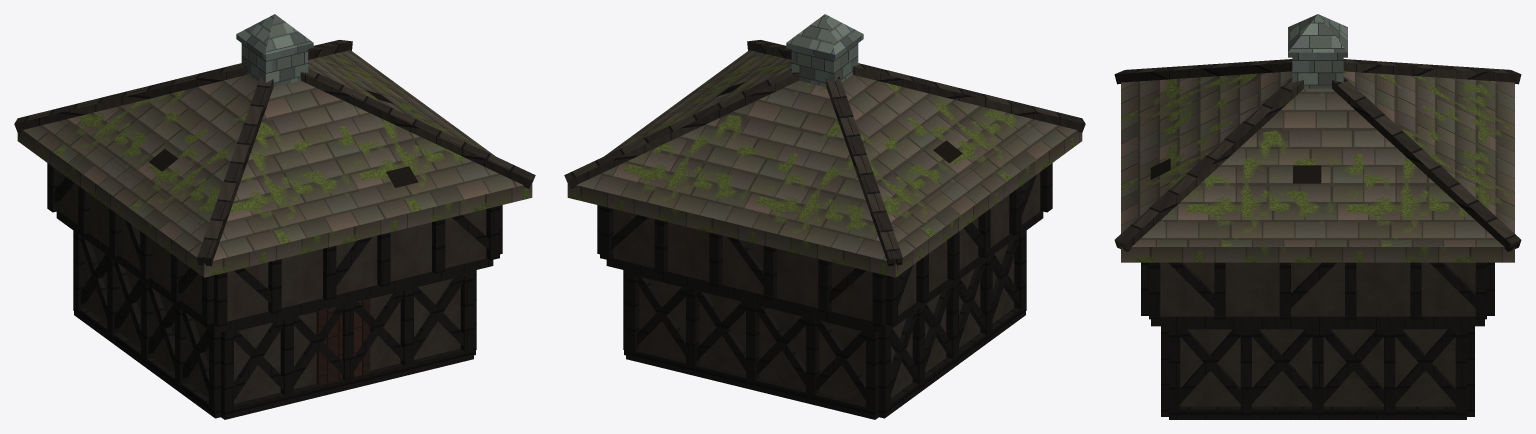
The model's file is Arabuild02.glb.
3 views of the same model, side by side, from view 1: azimuth 30°, elevation 25°; view 2: azimuth 150°, elevation 25°; view 3: azimuth 270°, elevation 25° (orthographic). The views are drawn at different scales.
Parts seen in each view (by area): view 1: Arabuild02_hwall; view 2: Arabuild02_hwall; view 3: Arabuild02_hwall.
Boxes of the visible parts, x1,y1,x2,y2 form: Arabuild02_hwall: (14,14,535,419); Arabuild02_hwall: (564,14,1085,419); Arabuild02_hwall: (1114,14,1521,419).
Bounding box in the file's own units: 7.23 × 6.55 × 7.13.
Materials: 7 (6 with a texture image).
